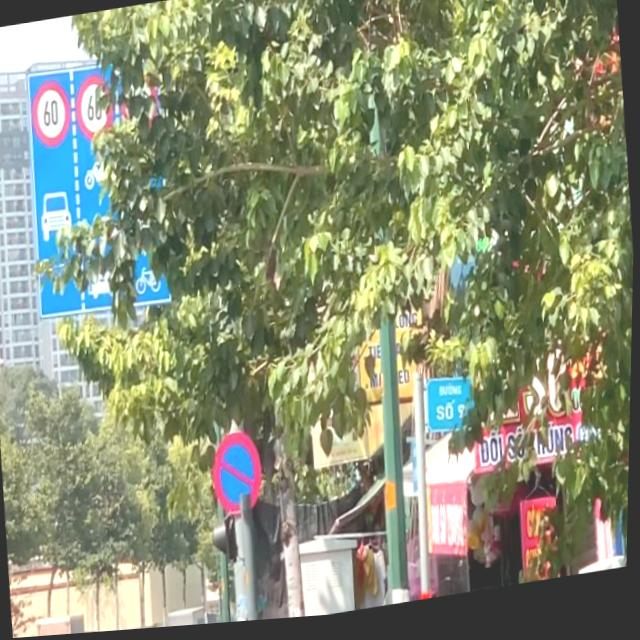Cam do xe: (209, 429, 269, 525)
Toc do toi da cho phep: (29, 76, 75, 153), (72, 72, 117, 148)
